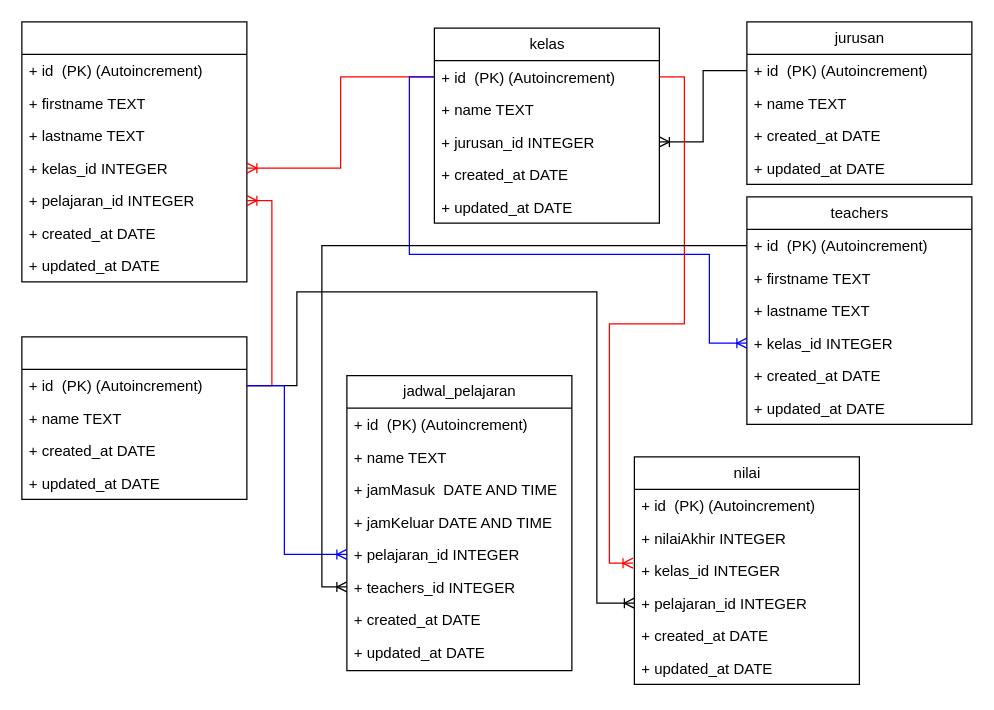
This 994x710 diagram has some shape labels left out. The shapes that lost their labels are listed below. From the top down, each one's box as (x1, y1, x2, y2) in pixels, then its label:
(21, 21, 247, 282): students
(21, 336, 247, 499): pelajaran
